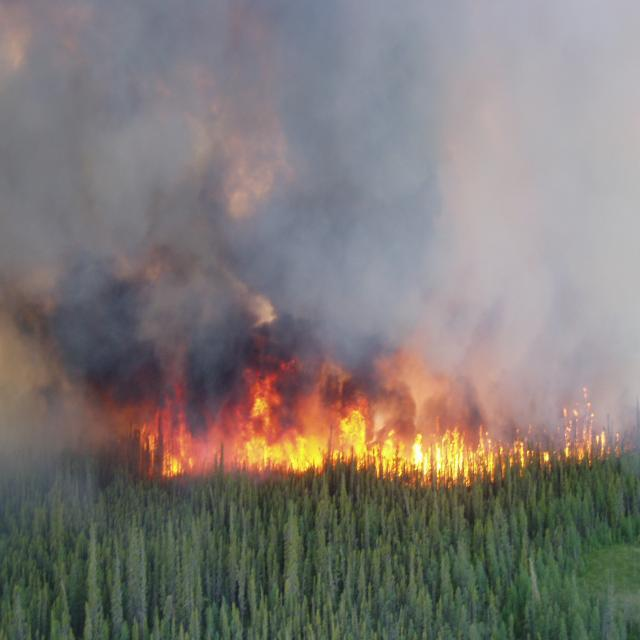Fire: (128, 382, 614, 491)
Smoke: (0, 0, 638, 487)
